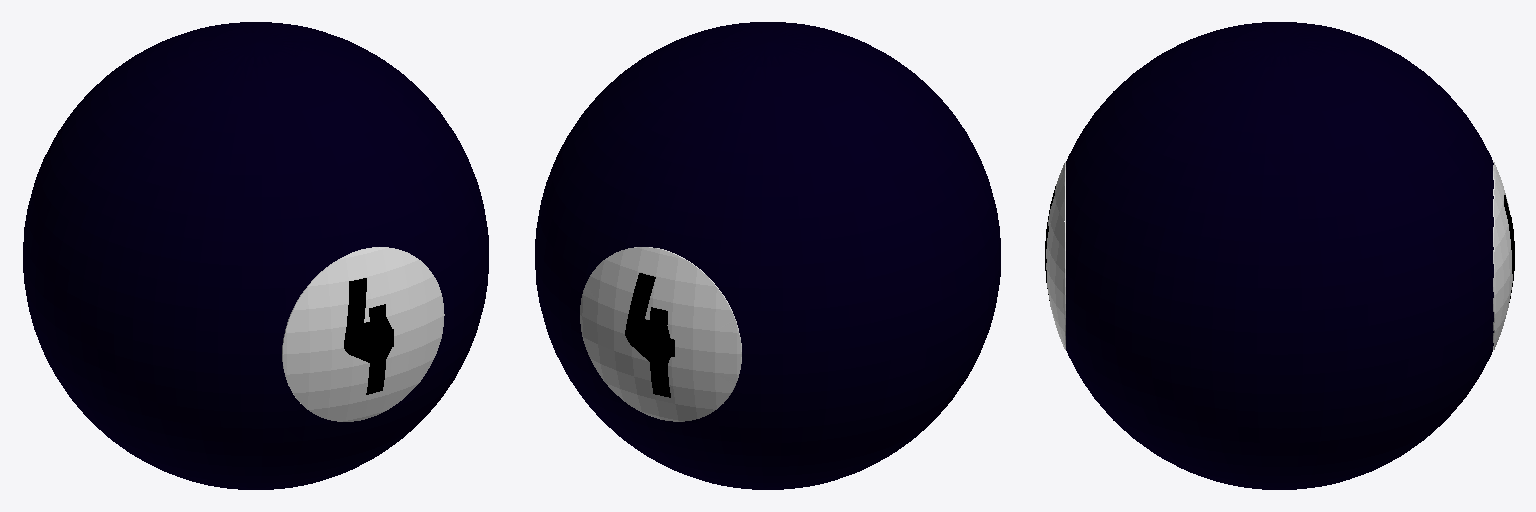
The model's file is Pool_Ball_4.obj.
3 views of the same model, side by side, from view 1: azimuth 30°, elevation 25°; view 2: azimuth 150°, elevation 25°; view 3: azimuth 270°, elevation 25° (orthographic).
Parts seen in each view (by area): view 1: Pool_Ball_4_Sphere.000; view 2: Pool_Ball_4_Sphere.000; view 3: Pool_Ball_4_Sphere.000.
Part boxes in pixels (x1,y1,x2,y2): Pool_Ball_4_Sphere.000: (23,22,488,489); Pool_Ball_4_Sphere.000: (535,22,1000,489); Pool_Ball_4_Sphere.000: (1045,22,1514,489).
Size of the model in its own units: 0.0566 by 0.0571 by 0.057.